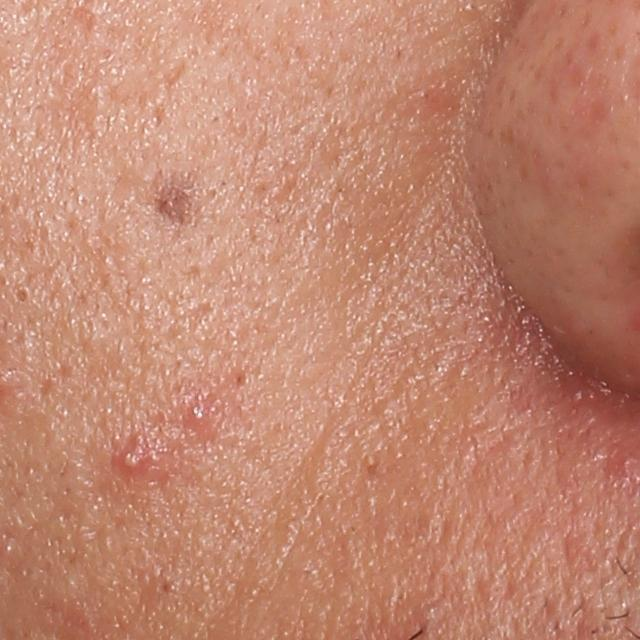atrophic_scar: (38, 65, 100, 154), (164, 60, 189, 88)
comedo: (148, 575, 180, 601), (8, 283, 33, 309)
nevus: (150, 175, 195, 234)
papule: (183, 398, 212, 429)
pustule: (115, 448, 150, 476)
